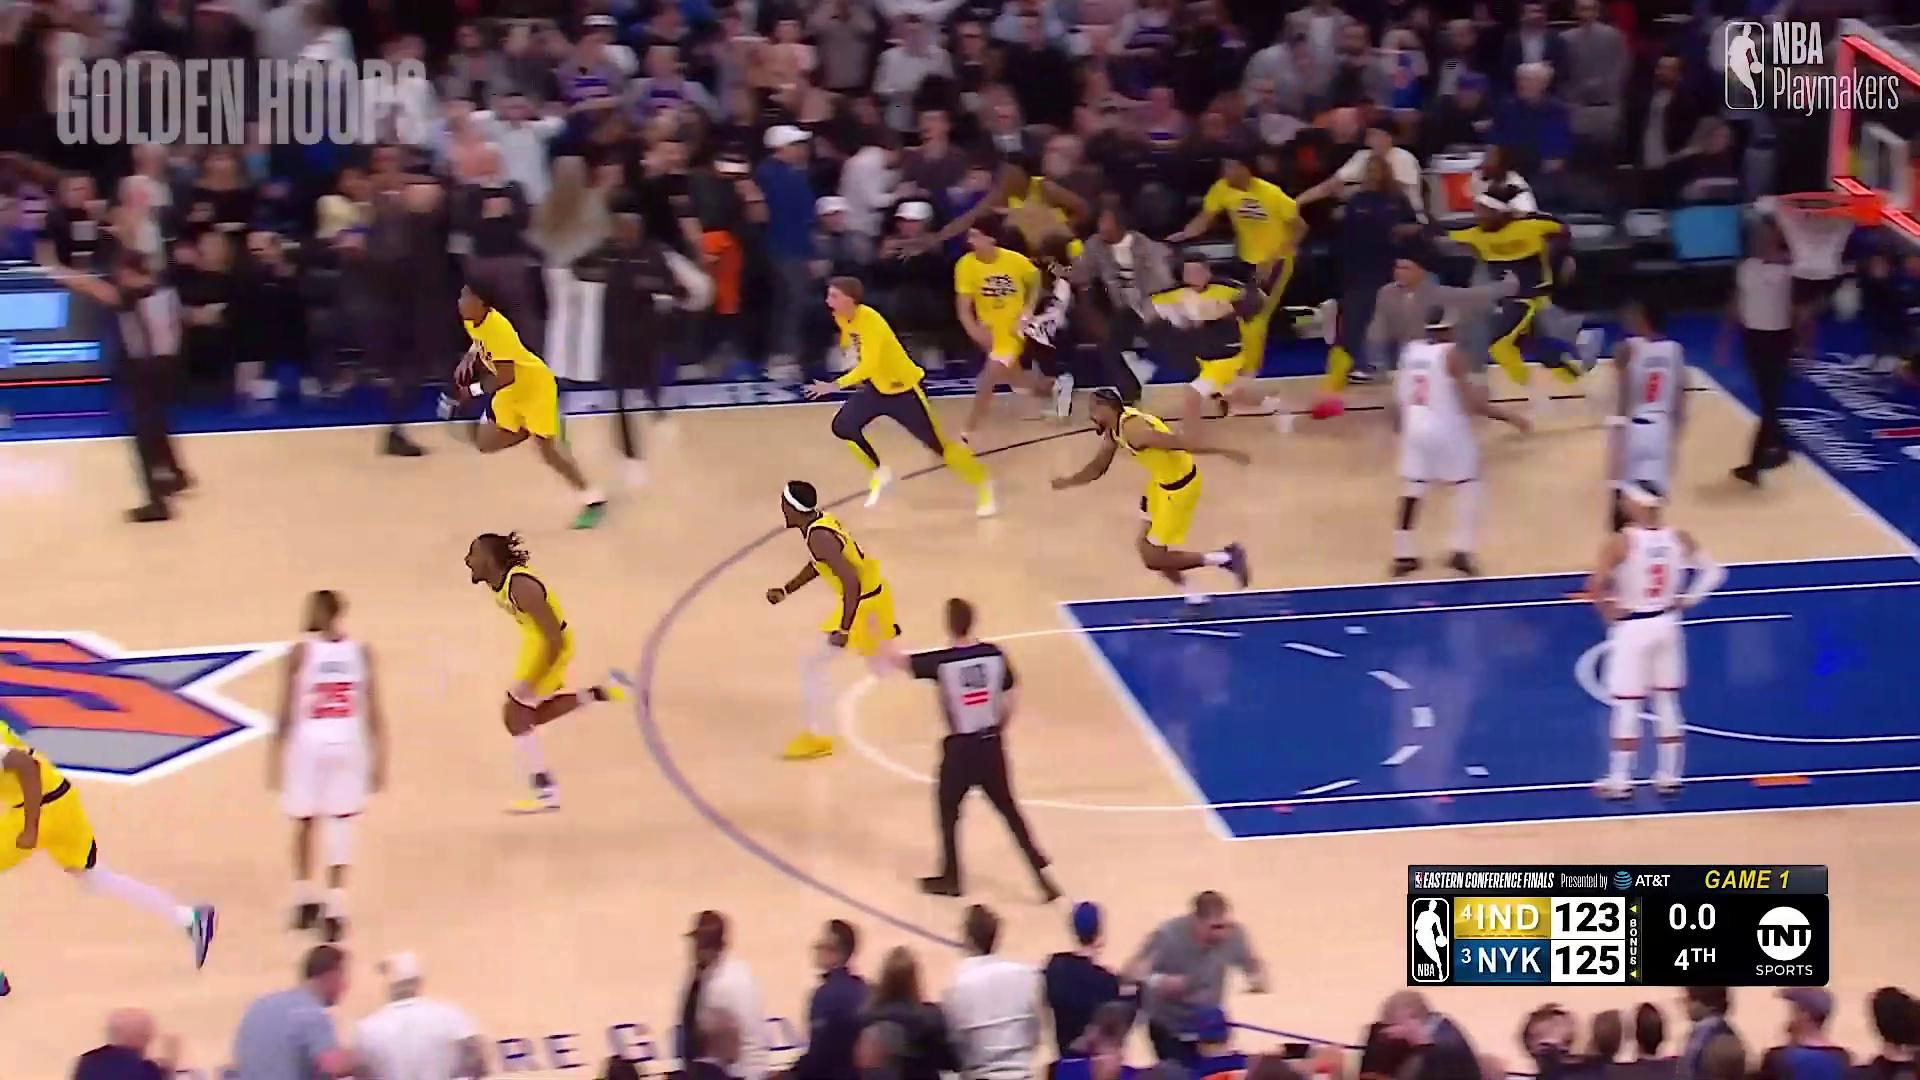hoop: (1772, 171, 1855, 284)
